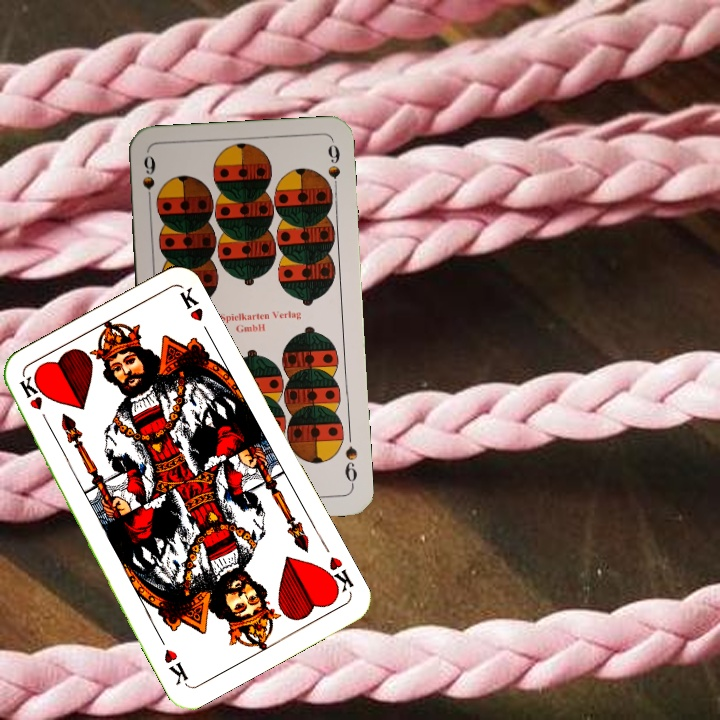HK: (15, 373, 53, 430), (317, 552, 356, 599)
S9: (138, 152, 158, 210), (341, 442, 360, 489)
